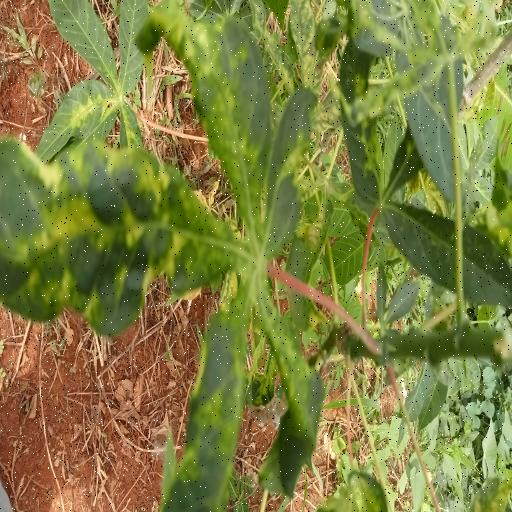Cassava_Mosaic: (0, 4, 327, 512)
